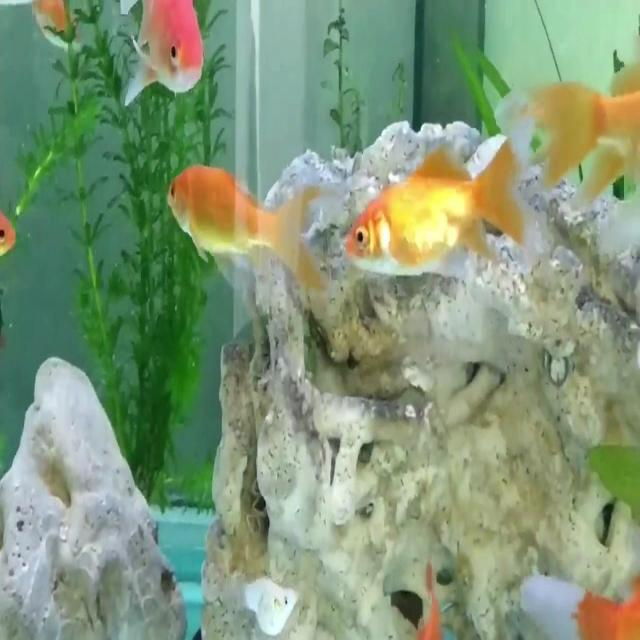GoldFish: (337, 114, 541, 334), (162, 153, 330, 313)
